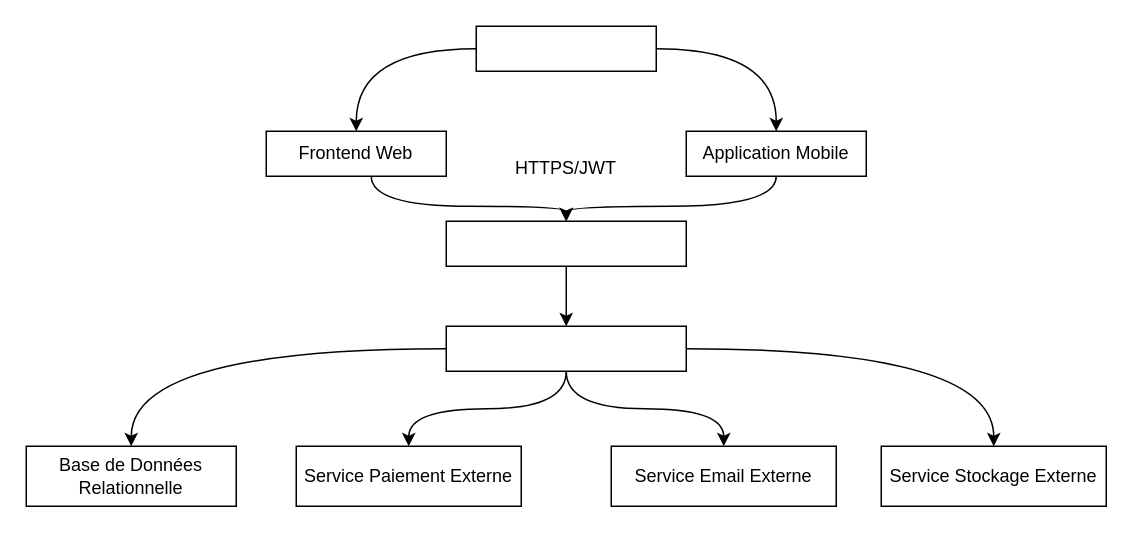
Some shapes in this 1133 by 533 pixel diagram are drawn without their labels. Here are the shapes that lost their labels. From the top down, the box of each, then its label:
(475, 25, 656, 71): Utilisateurs
(445, 220, 686, 266): API REST Sécurisée
(445, 325, 686, 371): Backend - Logique Métier
